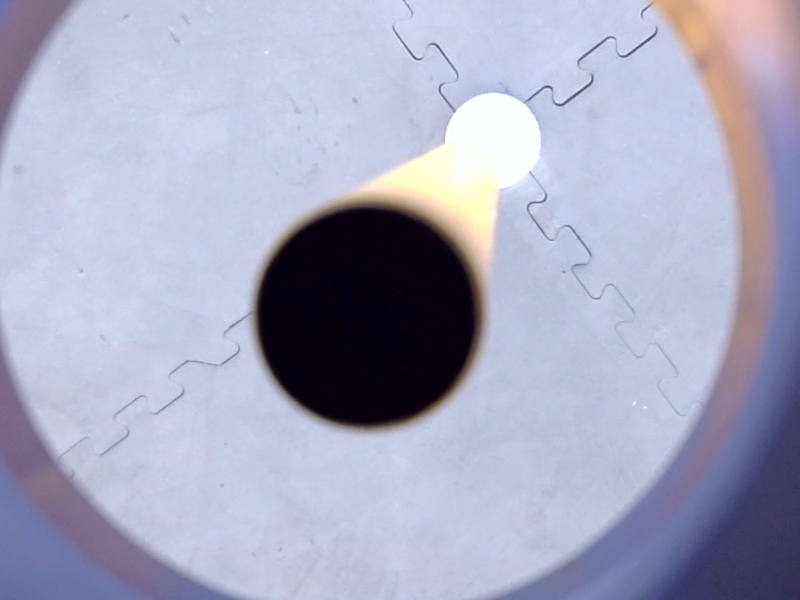tip: (241, 184, 497, 449)
